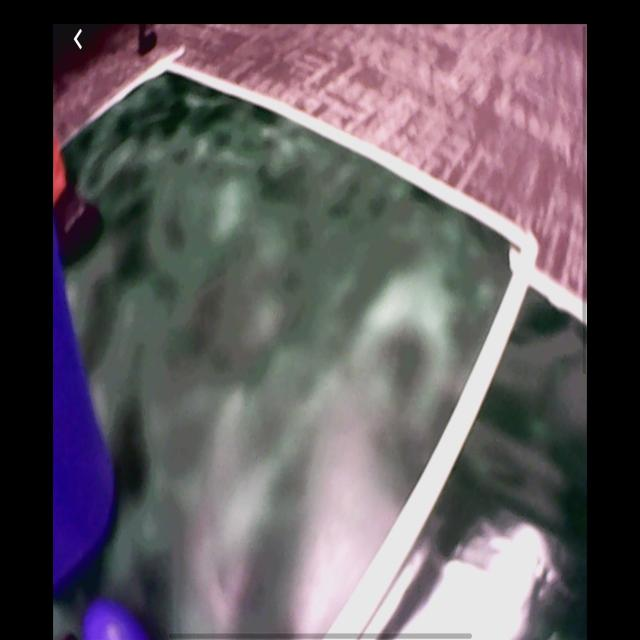ball: (82, 594, 146, 640)
